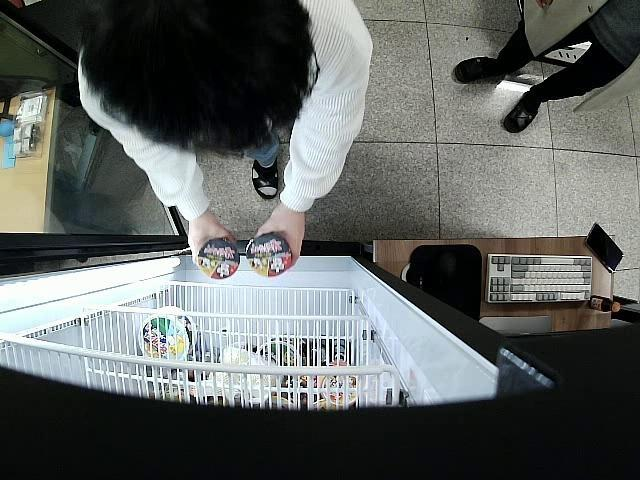08_buldak_S: (197, 236, 240, 280), (246, 236, 293, 276)
